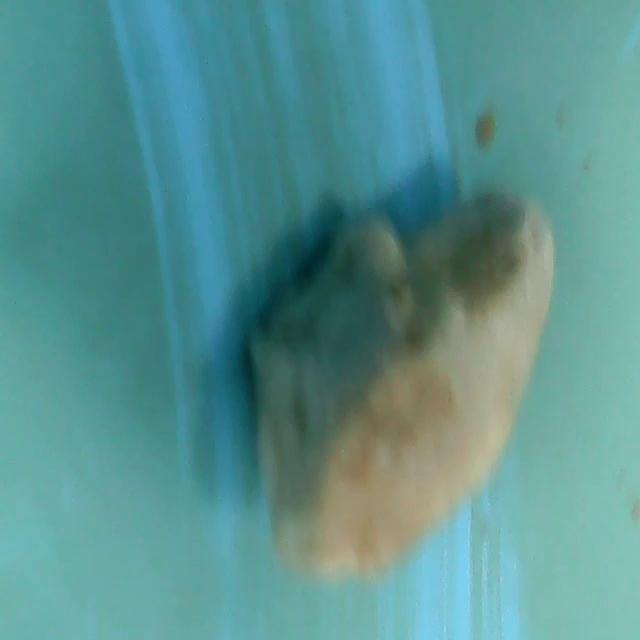rock: (242, 188, 557, 591)
